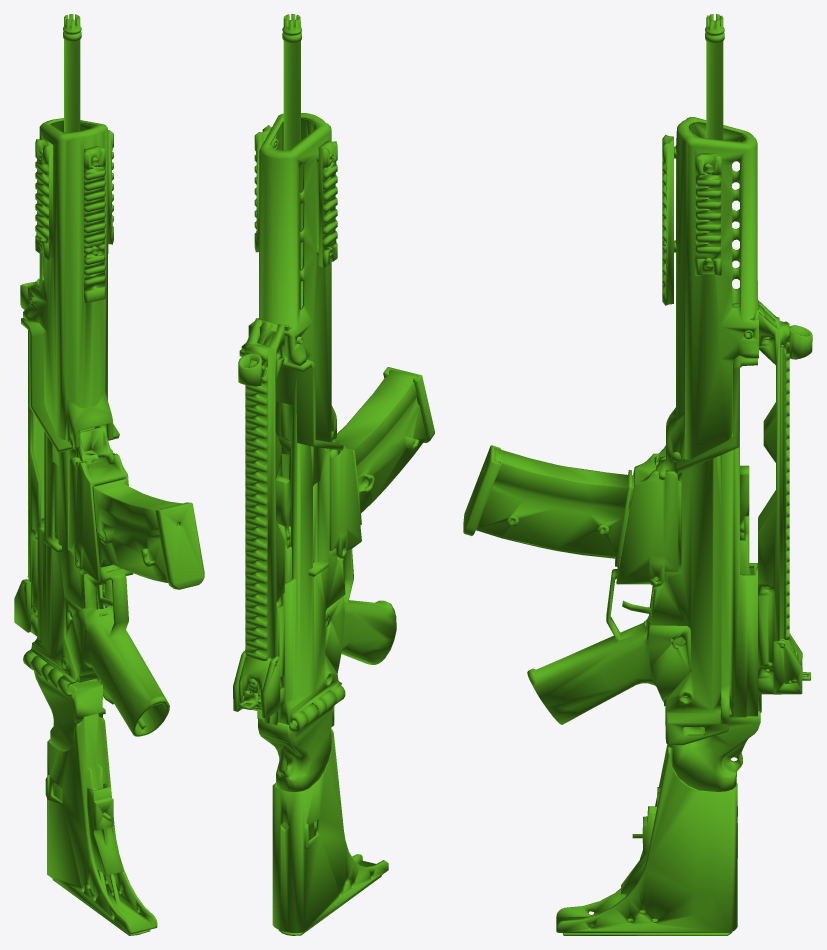
File: G36-Accurate_Version1_Test.obj
3 renders of one model, left to right at view 1: azimuth 30°, elevation 25°; view 2: azimuth 150°, elevation 25°; view 3: azimuth 270°, elevation 25°, orthographic. The views are drawn at different scales.
Visible parts, largest first — view 1: solidname; view 2: solidname; view 3: solidname.
Boxes of the visible parts, x1=… form: solidname: x1=14, y1=14, x2=204, y2=935; solidname: x1=233, y1=14, x2=434, y2=935; solidname: x1=463, y1=14, x2=812, y2=935.
Size of the model in its own units: 68.46 by 817 by 283.
